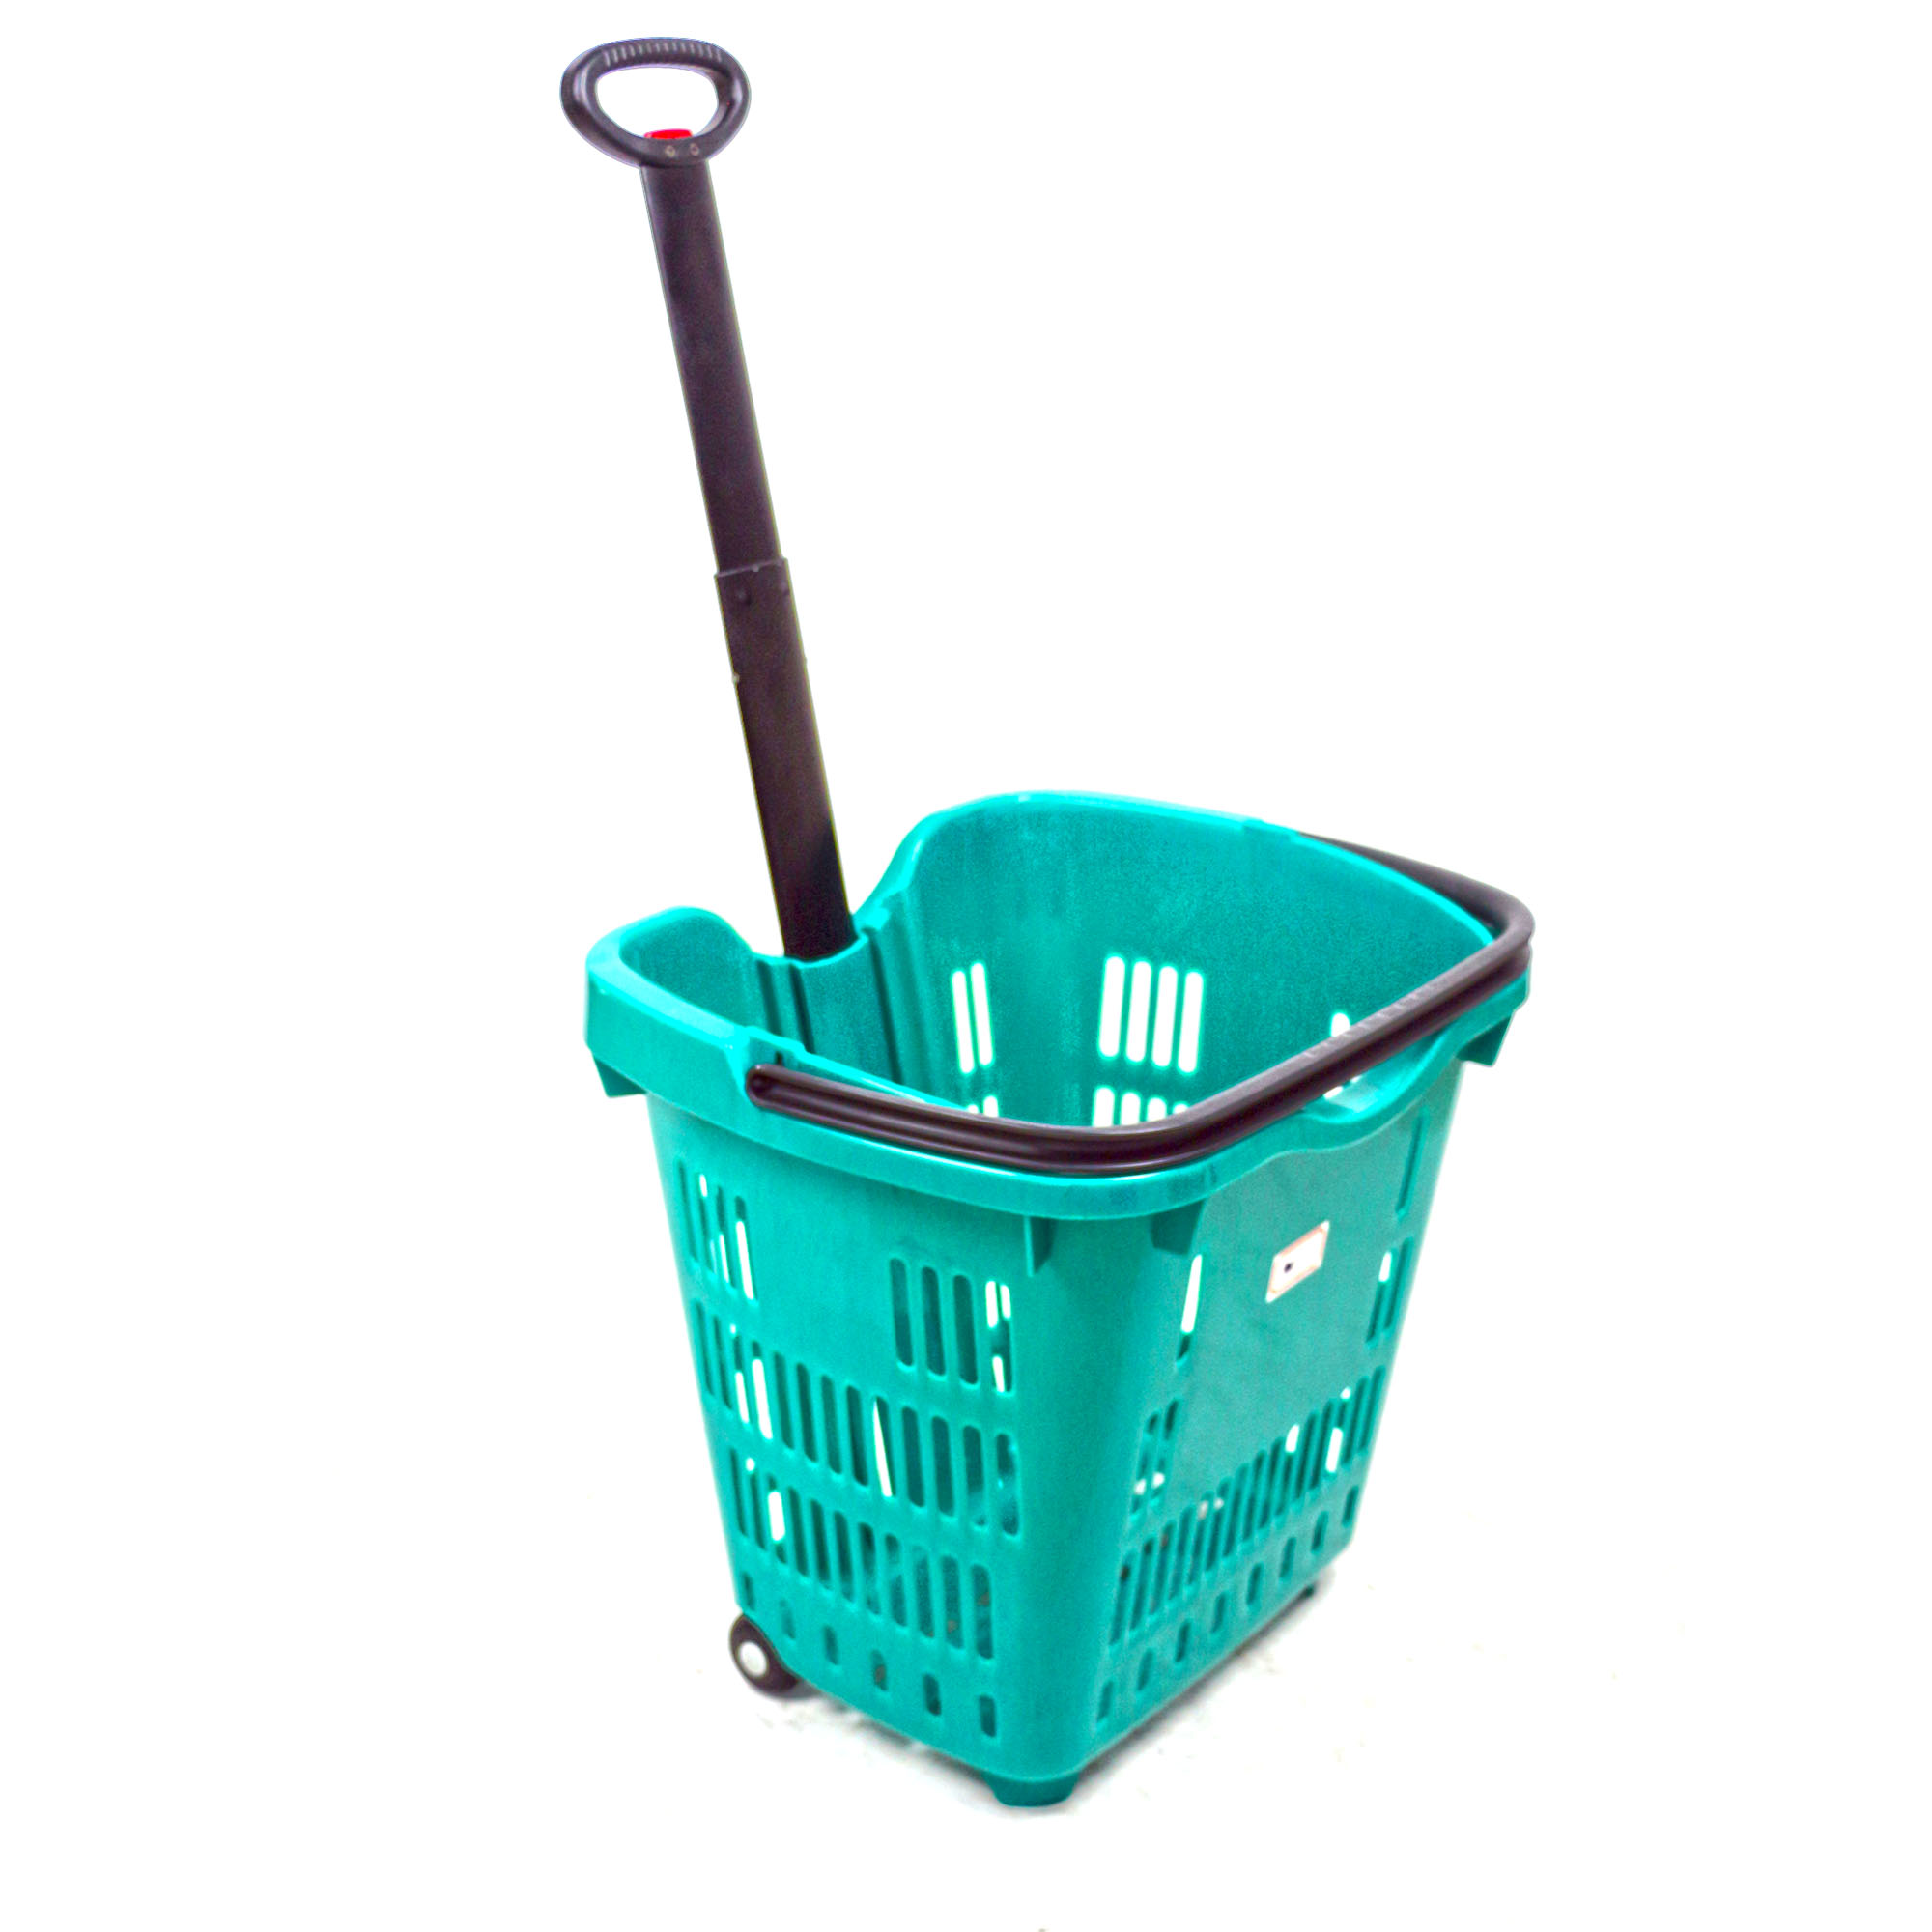with_basket: (554, 32, 1559, 1821)
